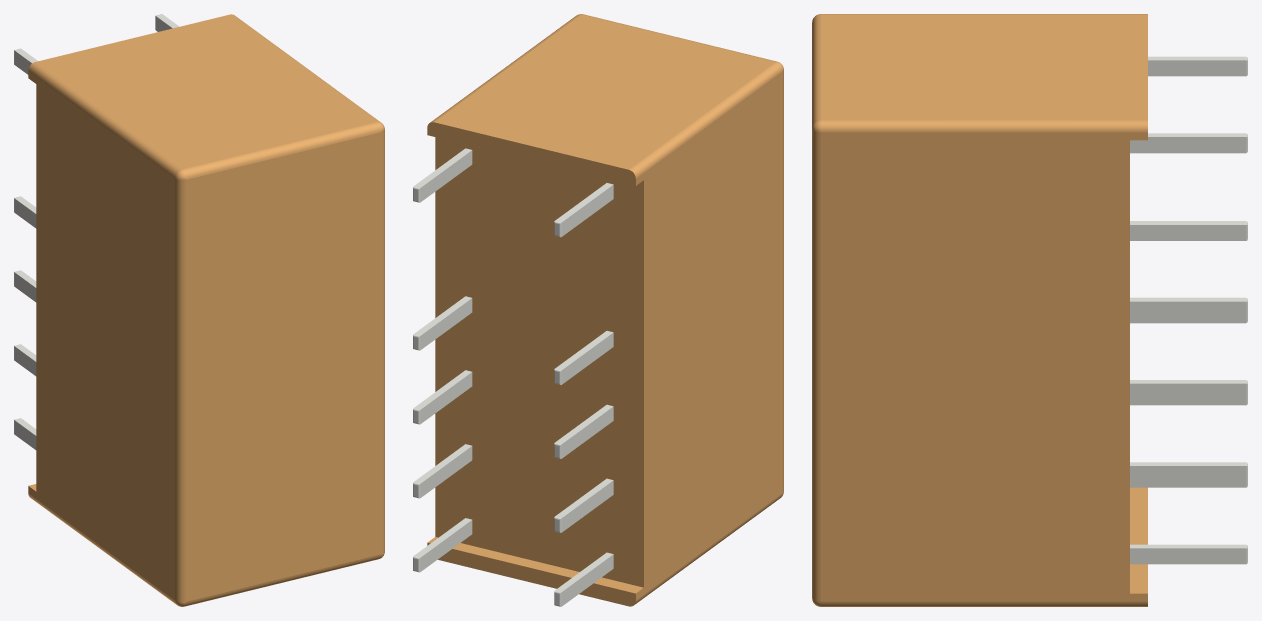
Rendered from Relay_DPDT_Kemet_EC2_NJ_DoubleCoil.glb.
The picture shows the model from 3 angles, left to right: view 1: azimuth 30°, elevation 25°; view 2: azimuth 150°, elevation 25°; view 3: azimuth 270°, elevation 25°; orthographic projection. The views are drawn at different scales.
Parts seen in each view (by area): view 1: Shape_IndexedFaceSet, Shape_IndexedFaceSet.009, Shape_IndexedFaceSet.006, Shape_IndexedFaceSet.002, Shape_IndexedFaceSet.001, Shape_IndexedFaceSet.013, Shape_IndexedFaceSet.003, Shape_IndexedFaceSet.004, Shape_IndexedFaceSet.016; view 2: Shape_IndexedFaceSet.019, Shape_IndexedFaceSet.009, Shape_IndexedFaceSet.006, Shape_IndexedFaceSet.015, Shape_IndexedFaceSet.018, Shape_IndexedFaceSet.013, Shape_IndexedFaceSet.020, Shape_IndexedFaceSet.002, Shape_IndexedFaceSet.059, Shape_IndexedFaceSet.039, Shape_IndexedFaceSet.079, Shape_IndexedFaceSet.089 (+8 smaller); view 3: Shape_IndexedFaceSet.010, Shape_IndexedFaceSet.006, Shape_IndexedFaceSet.014, Shape_IndexedFaceSet.003, Shape_IndexedFaceSet.032, Shape_IndexedFaceSet.072, Shape_IndexedFaceSet.092, Shape_IndexedFaceSet.021, Shape_IndexedFaceSet.112, Shape_IndexedFaceSet.052, Shape_IndexedFaceSet.102, Shape_IndexedFaceSet.122 (+7 smaller).
Boxes of the visible parts, x1,y1,x2,y2 form: Shape_IndexedFaceSet: (186, 132, 380, 601); Shape_IndexedFaceSet.009: (28, 71, 175, 600); Shape_IndexedFaceSet.006: (35, 14, 376, 169); Shape_IndexedFaceSet.002: (175, 179, 186, 602); Shape_IndexedFaceSet.001: (182, 122, 380, 179); Shape_IndexedFaceSet.013: (28, 62, 181, 178); Shape_IndexedFaceSet.003: (381, 130, 384, 553); Shape_IndexedFaceSet.004: (185, 554, 380, 606); Shape_IndexedFaceSet.016: (28, 493, 176, 604); Shape_IndexedFaceSet.019: (435, 137, 643, 587); Shape_IndexedFaceSet.009: (636, 71, 782, 600); Shape_IndexedFaceSet.006: (434, 15, 775, 169); Shape_IndexedFaceSet.015: (427, 122, 635, 185); Shape_IndexedFaceSet.018: (427, 542, 635, 606); Shape_IndexedFaceSet.013: (629, 62, 782, 178); Shape_IndexedFaceSet.020: (428, 537, 643, 593); Shape_IndexedFaceSet.002: (782, 70, 783, 492); Shape_IndexedFaceSet.059: (561, 480, 613, 532); Shape_IndexedFaceSet.039: (561, 554, 613, 606); Shape_IndexedFaceSet.079: (561, 406, 613, 458); Shape_IndexedFaceSet.089: (420, 298, 472, 349); Shape_IndexedFaceSet.010: (821, 132, 1147, 601); Shape_IndexedFaceSet.006: (821, 14, 1147, 120); Shape_IndexedFaceSet.014: (821, 120, 1147, 132); Shape_IndexedFaceSet.003: (812, 129, 820, 601); Shape_IndexedFaceSet.032: (1130, 548, 1246, 564); Shape_IndexedFaceSet.072: (1130, 383, 1246, 399); Shape_IndexedFaceSet.092: (1130, 301, 1246, 317); Shape_IndexedFaceSet.021: (821, 601, 1147, 606); Shape_IndexedFaceSet.112: (1130, 137, 1246, 153); Shape_IndexedFaceSet.052: (1130, 466, 1246, 481); Shape_IndexedFaceSet.102: (1130, 225, 1246, 240); Shape_IndexedFaceSet.122: (1148, 60, 1246, 76).
Bounding box in the file's own units: 2.95 × 5.91 × 4.8.
